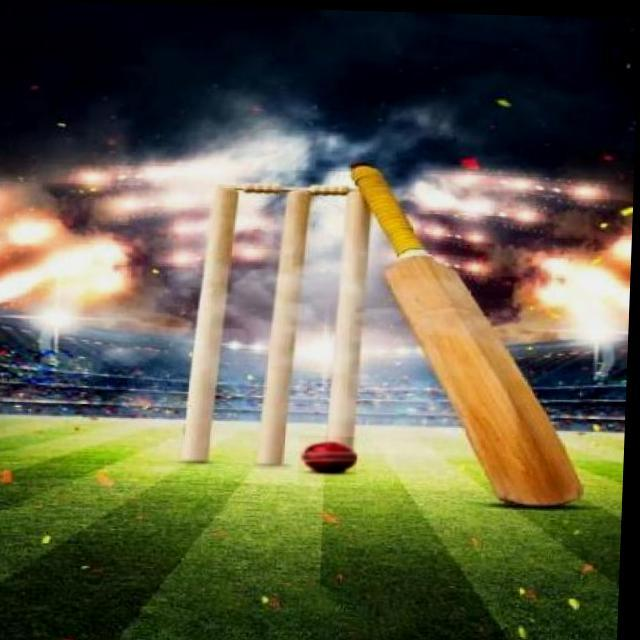-: (302, 434, 361, 481)
